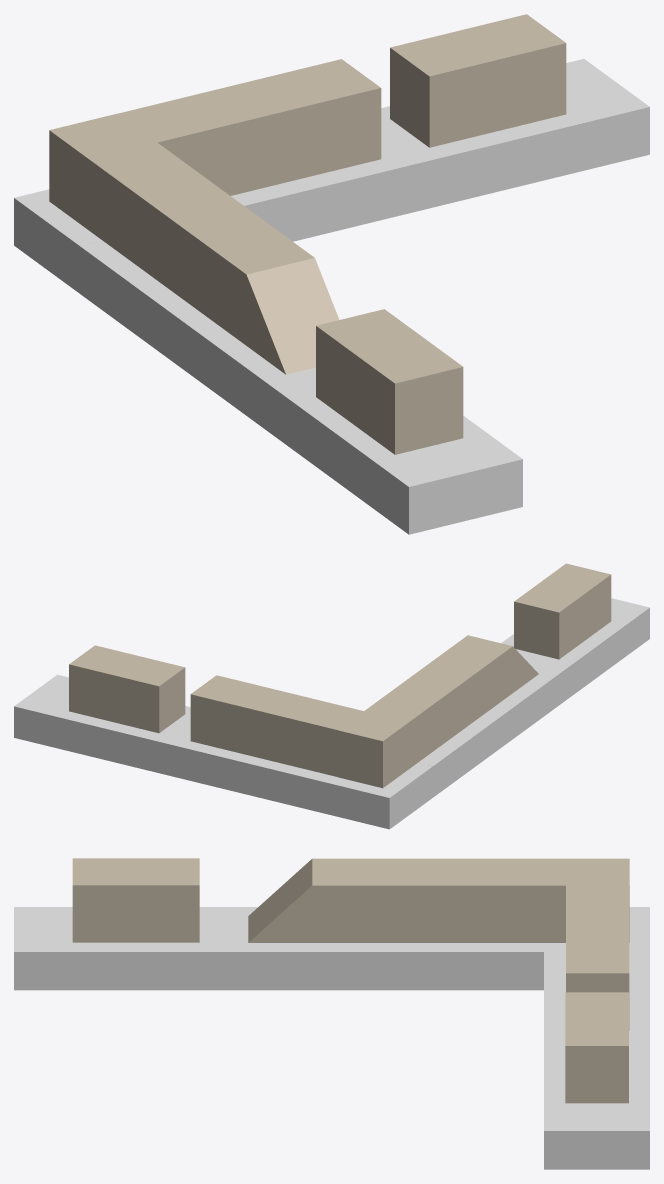
The model's file is Rail_Angle_Petit.FBX.
3 views of the same model, one above another, from view 1: azimuth 30°, elevation 25°; view 2: azimuth 150°, elevation 25°; view 3: azimuth 270°, elevation 25° (orthographic). The views are drawn at different scales.
Parts seen in each view (by area): view 1: Box477, Box476, Box478, Box479, Box475, Box480; view 2: Box478, Box477, Box476, Box479, Box475, Box480; view 3: Box476, Box477, Box478, Box480, Box475, Box479.
Boxes of the visible parts, <box> form: Box477: <box>49,113,339,374</box>; Box476: <box>80,240,522,534</box>; Box478: <box>14,59,649,293</box>; Box479: <box>114,59,381,195</box>; Box475: <box>390,14,566,147</box>; Box480: <box>316,309,463,454</box>; Box478: <box>14,674,432,829</box>; Box477: <box>338,635,538,788</box>; Box476: <box>418,598,649,797</box>; Box479: <box>190,675,366,776</box>; Box475: <box>69,645,185,733</box>; Box480: <box>514,563,611,659</box>; Box476: <box>14,907,543,990</box>; Box477: <box>248,858,629,942</box>; Box478: <box>544,907,649,1169</box>; Box480: <box>72,858,199,942</box>; Box475: <box>565,992,628,1103</box>; Box479: <box>566,884,629,1030</box>.
Bounding box in the file's own units: 98.44 × 19.64 × 118.
